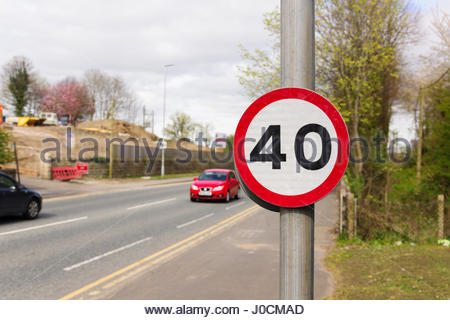Speed_limit_40km: (231, 87, 354, 206)
